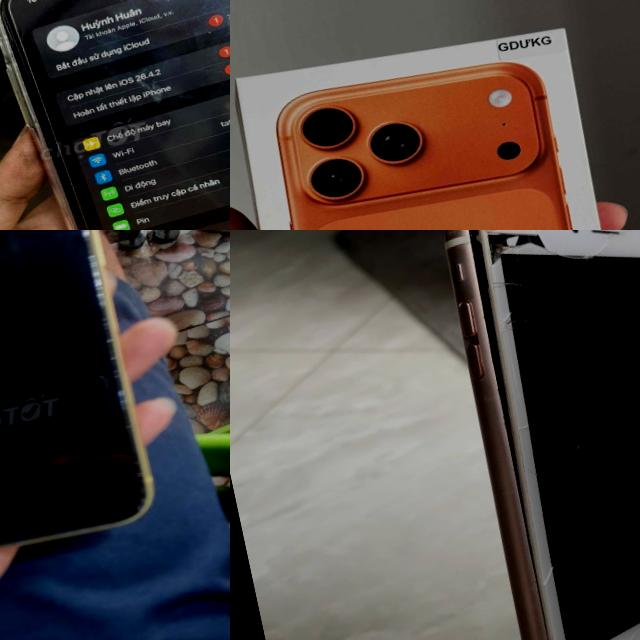gen_11: (0, 230, 172, 582), (0, 0, 230, 230)
gen_17: (253, 37, 637, 230)
gen_7_8: (417, 230, 640, 640)
physical_damage: (434, 230, 528, 447), (512, 388, 606, 477), (496, 262, 574, 342), (514, 534, 588, 598), (587, 264, 640, 346), (480, 230, 571, 274), (601, 335, 640, 424)
scratch: (51, 230, 161, 517)
